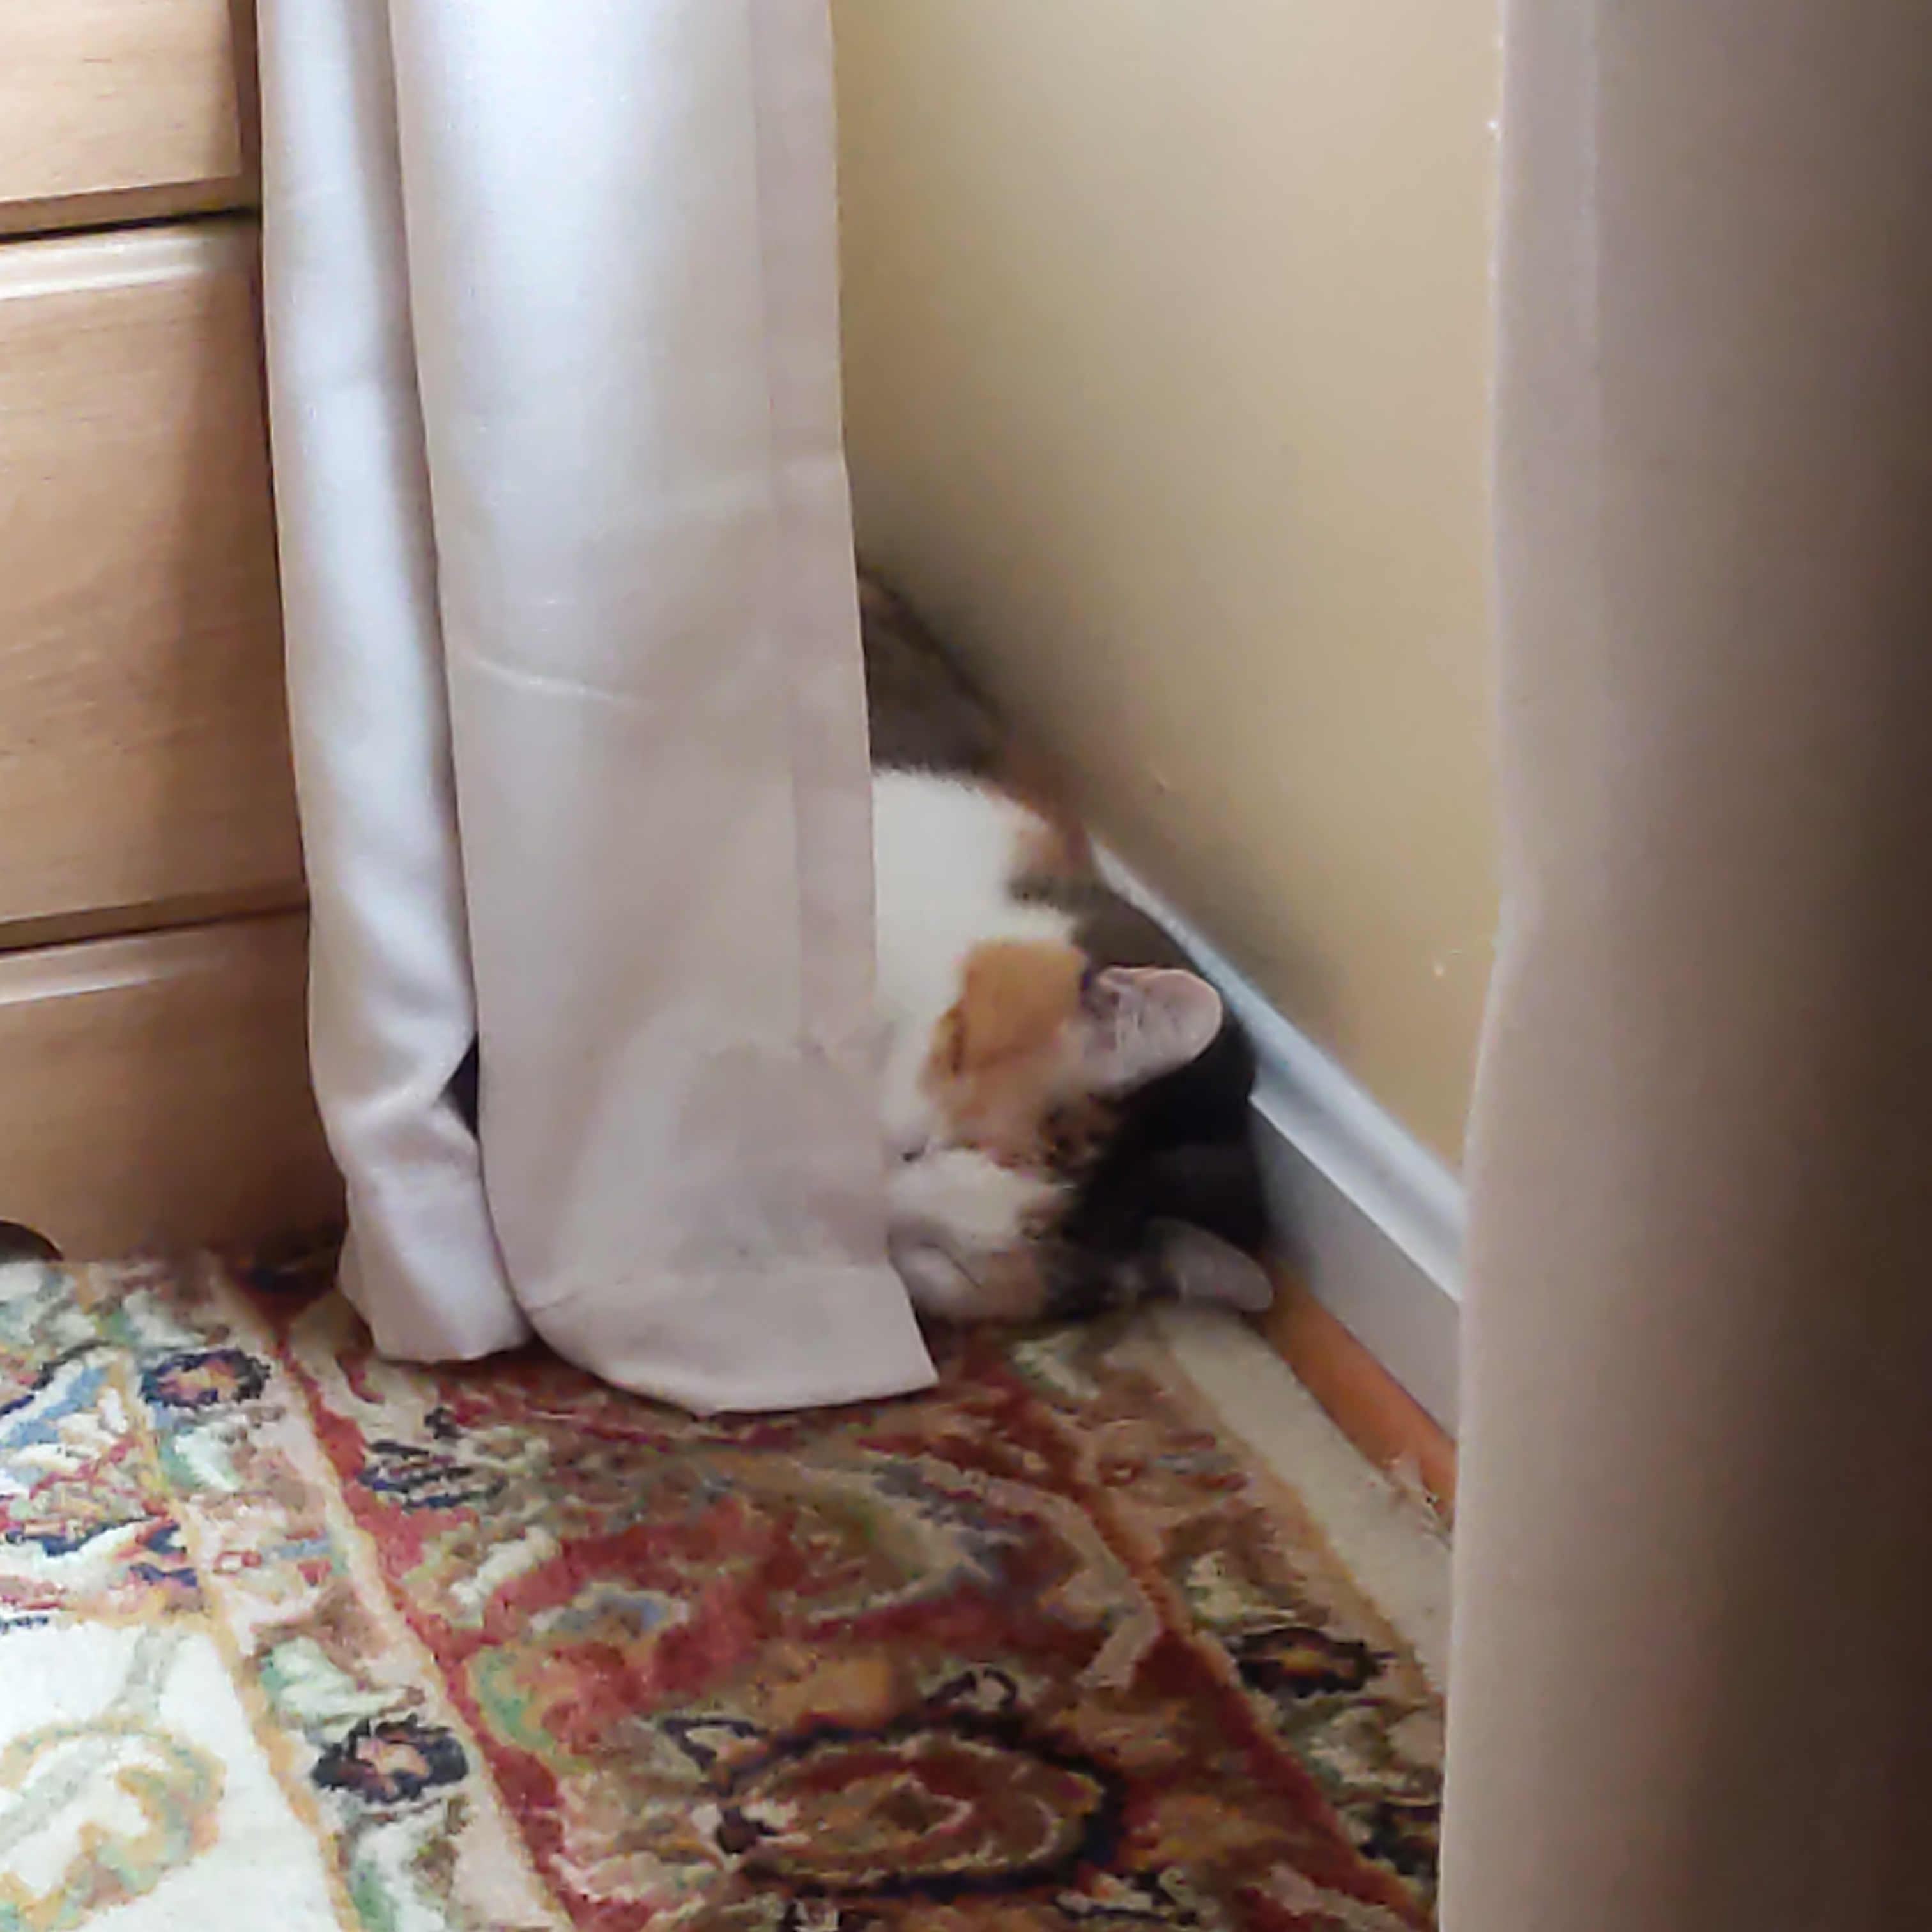Calico: (858, 556, 1276, 1320)
